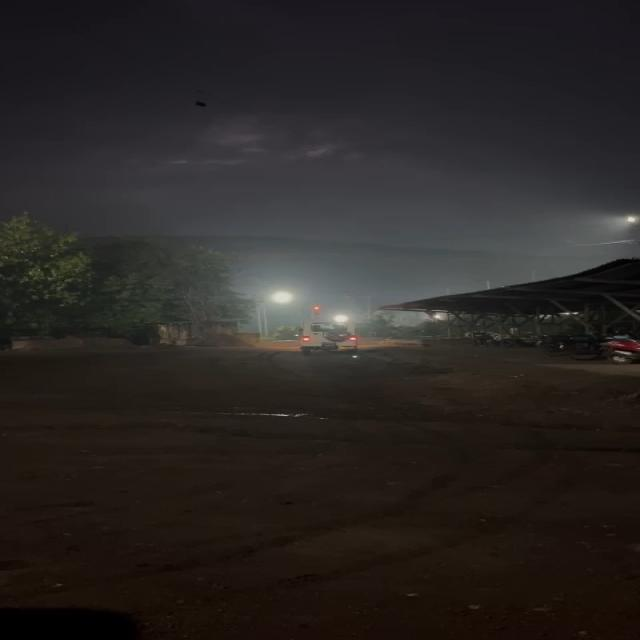light_vehicle: (294, 319, 362, 353)
